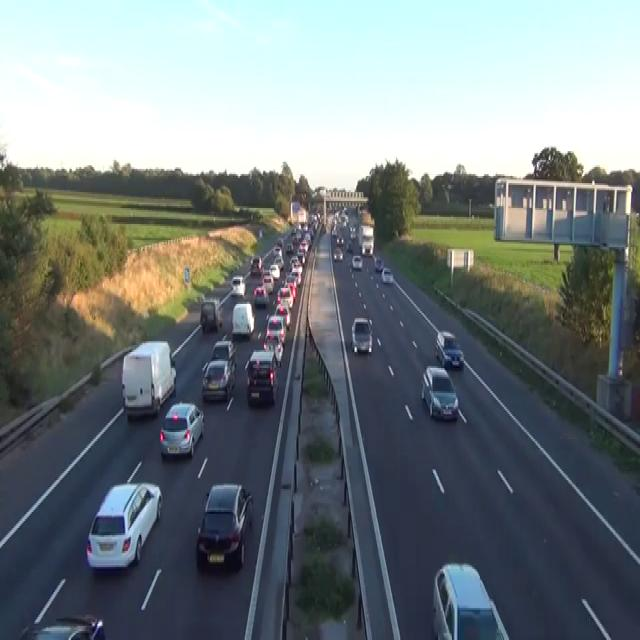Car: (85, 482, 162, 569), (432, 562, 510, 638), (18, 578, 106, 638), (196, 482, 253, 570), (159, 400, 204, 457), (420, 364, 458, 422), (20, 614, 106, 638), (244, 348, 278, 406), (201, 357, 235, 402), (435, 330, 464, 370), (210, 338, 237, 370), (351, 316, 372, 354), (200, 298, 223, 330), (263, 332, 283, 367), (265, 315, 285, 345), (276, 284, 293, 310), (274, 304, 291, 329), (253, 284, 268, 308), (230, 275, 246, 297), (261, 270, 274, 294), (284, 277, 297, 299), (250, 256, 262, 276), (289, 256, 302, 274), (381, 266, 393, 282), (361, 240, 373, 256), (269, 263, 280, 279), (351, 254, 362, 268), (296, 249, 305, 265), (333, 247, 343, 261), (374, 256, 383, 270), (349, 224, 356, 238), (273, 245, 281, 256), (285, 242, 293, 252), (336, 235, 344, 245), (276, 237, 284, 247), (346, 240, 353, 251), (331, 226, 337, 236), (258, 228, 262, 238)
Truck: (121, 340, 176, 418), (231, 302, 254, 340)
